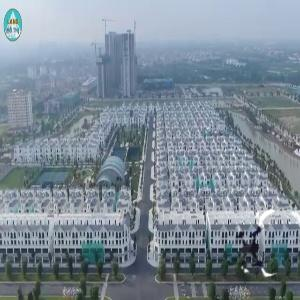drone: (224, 215, 292, 283)
